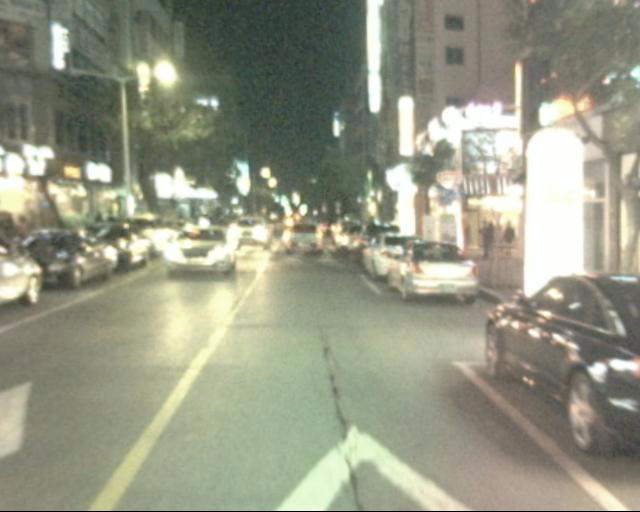person: (469, 206, 496, 265), (484, 210, 508, 266), (501, 213, 523, 268)
